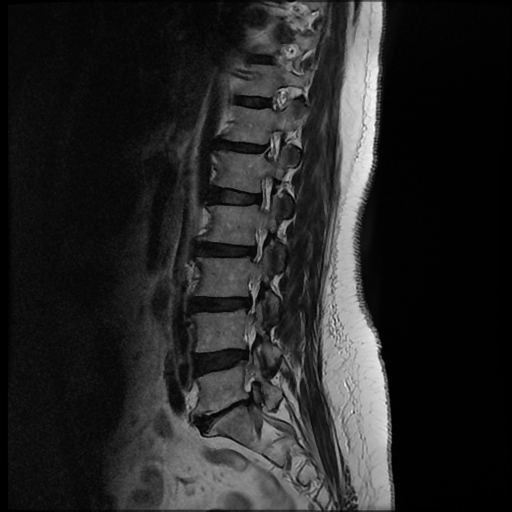RFS0: (248, 170, 280, 219), (241, 222, 273, 267)
